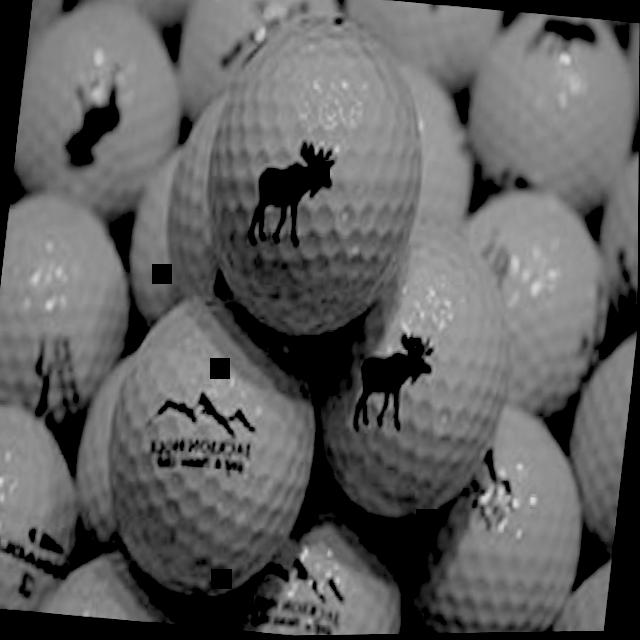golf ball: (182, 4, 446, 338), (310, 215, 509, 535), (96, 313, 316, 594), (392, 397, 596, 635), (437, 188, 633, 417), (9, 0, 194, 219), (462, 8, 640, 218), (0, 196, 138, 419), (0, 404, 103, 617)
